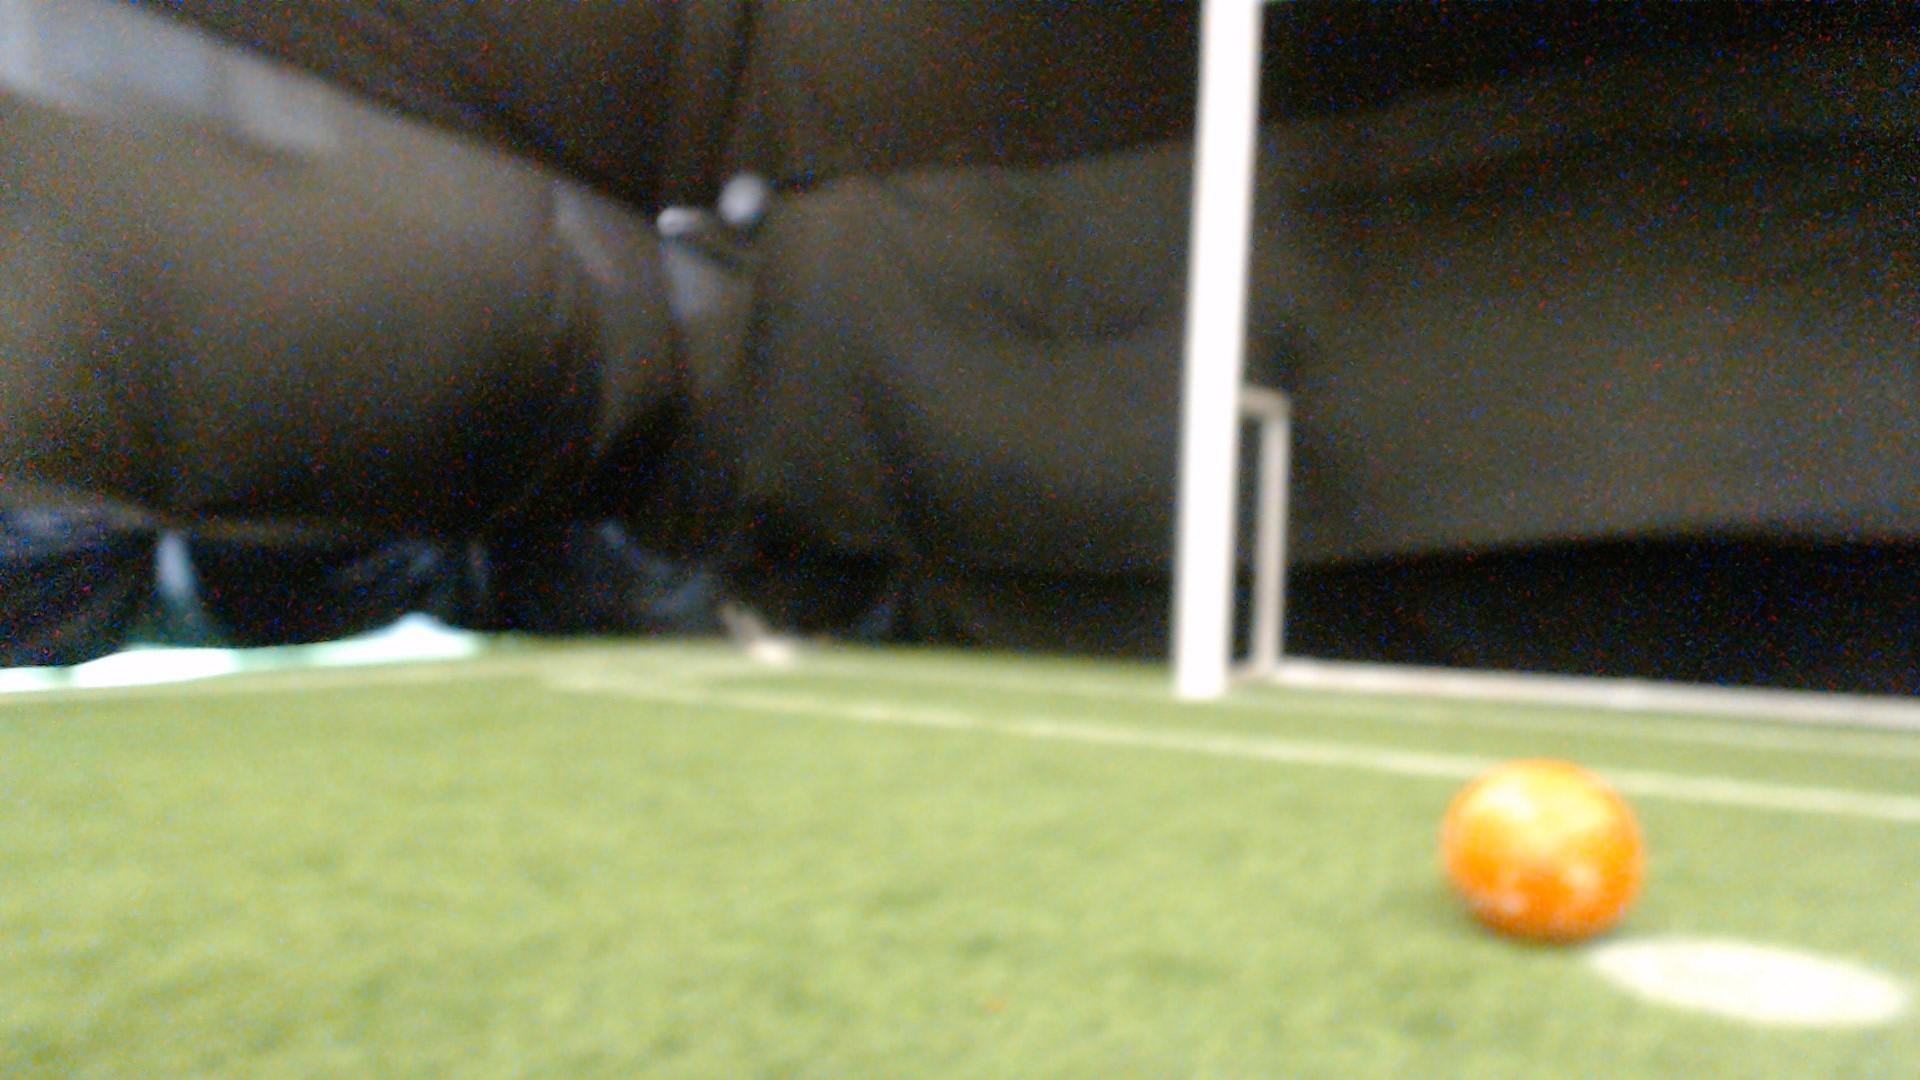bola: (1418, 745, 1672, 968)
